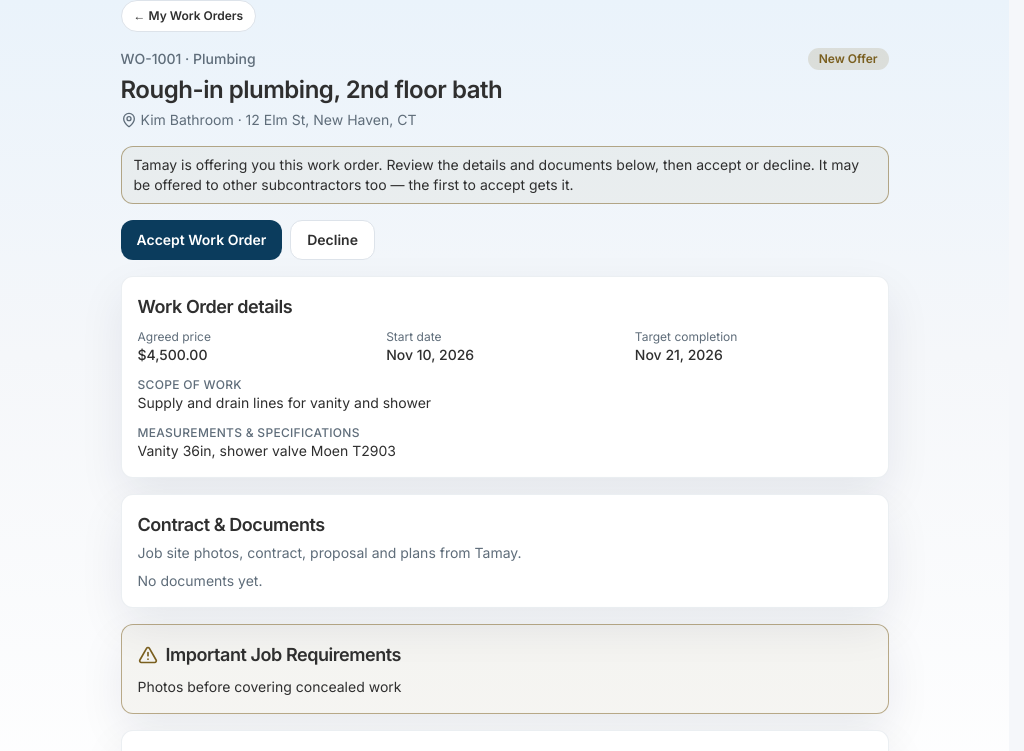
Scenario: Work order offer (subcontractor) › accepting is formal: the agreement box must be checked
The image size is (1024, 751).
Later steps or results of the test are not shown.
Click the button "Accept Work Order".
click(201, 240)  # box [120,220,282,260]
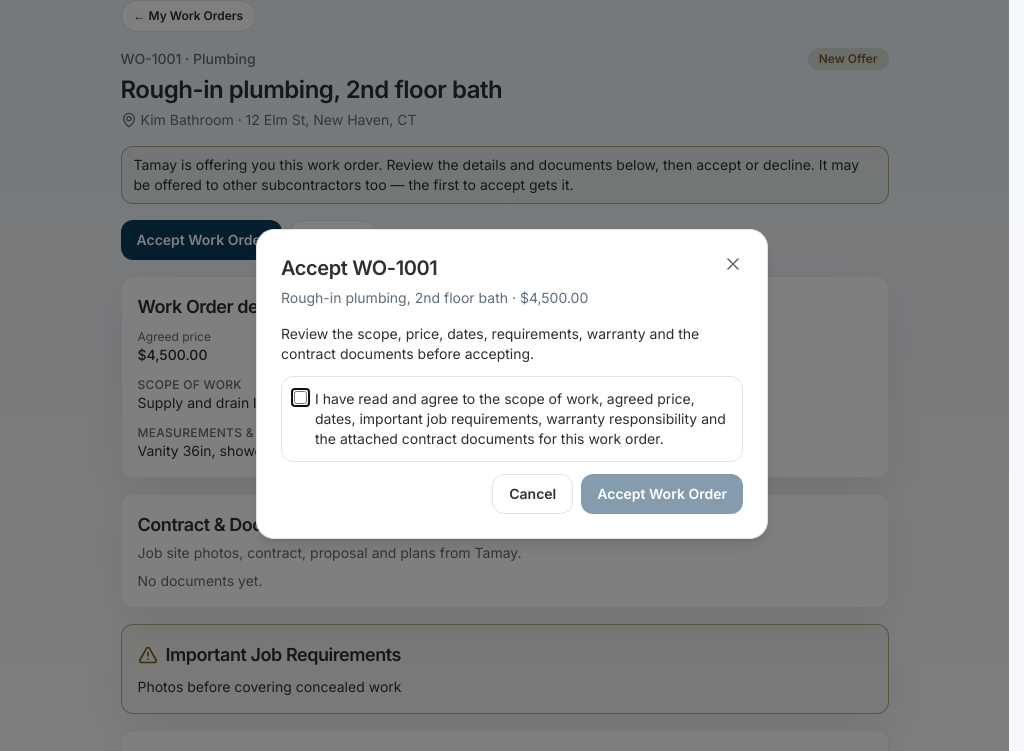
Now the button "Accept Work Order" is disabled, box [581,474,743,514]
Click the checkbox.
click(300, 398)  # box [294,391,307,404]
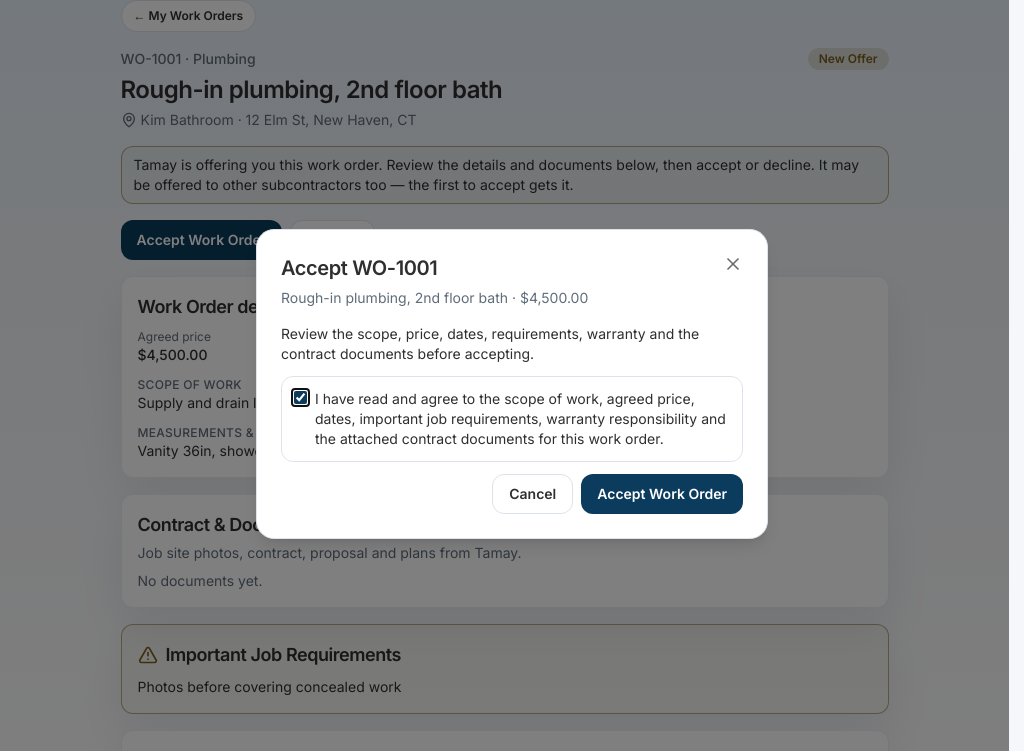
Now the text "I have read and agree to the scope of work" is shown, box [315,390,726,447]
